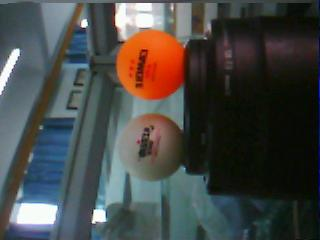oball: (116, 30, 185, 99)
